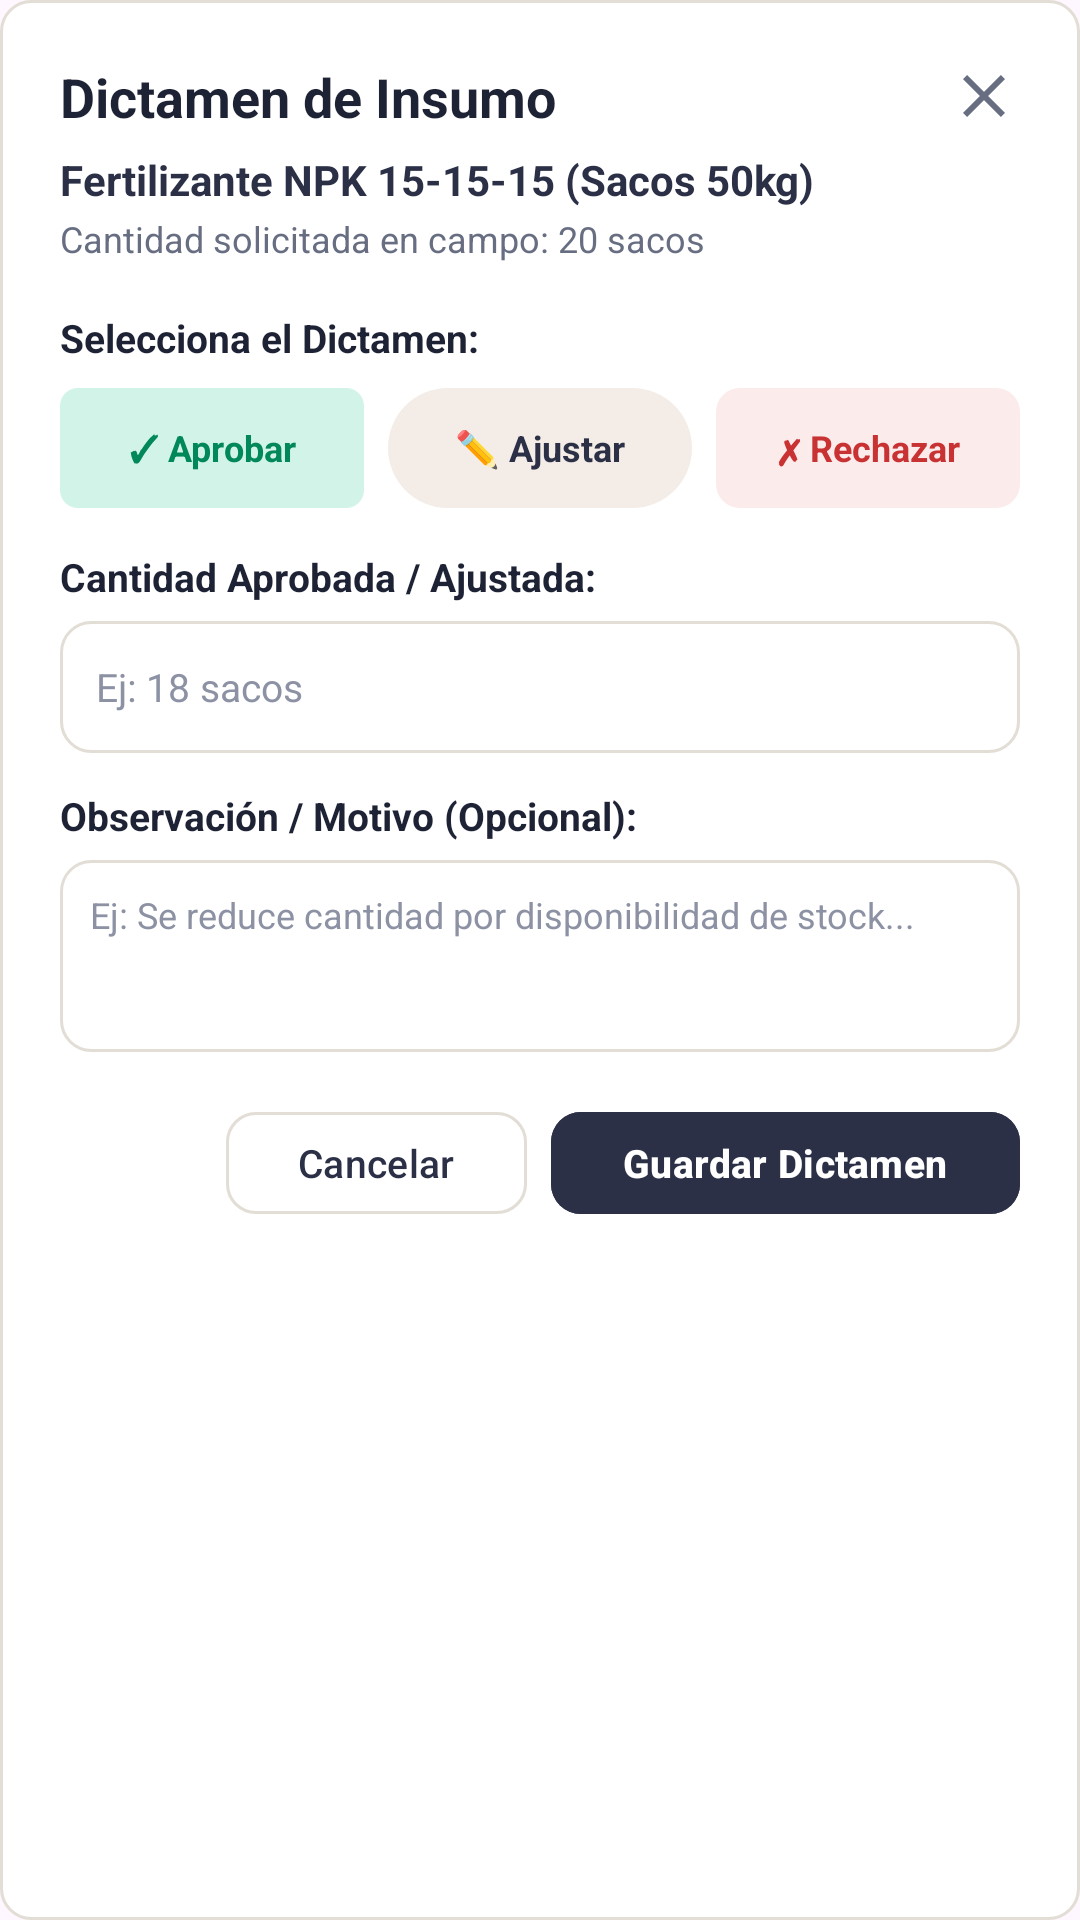

Screen size 1080×1920. Icon name, then its box in pixels as (x1, y1, x2, y2):
Cerrar: (963, 75, 1005, 117)
